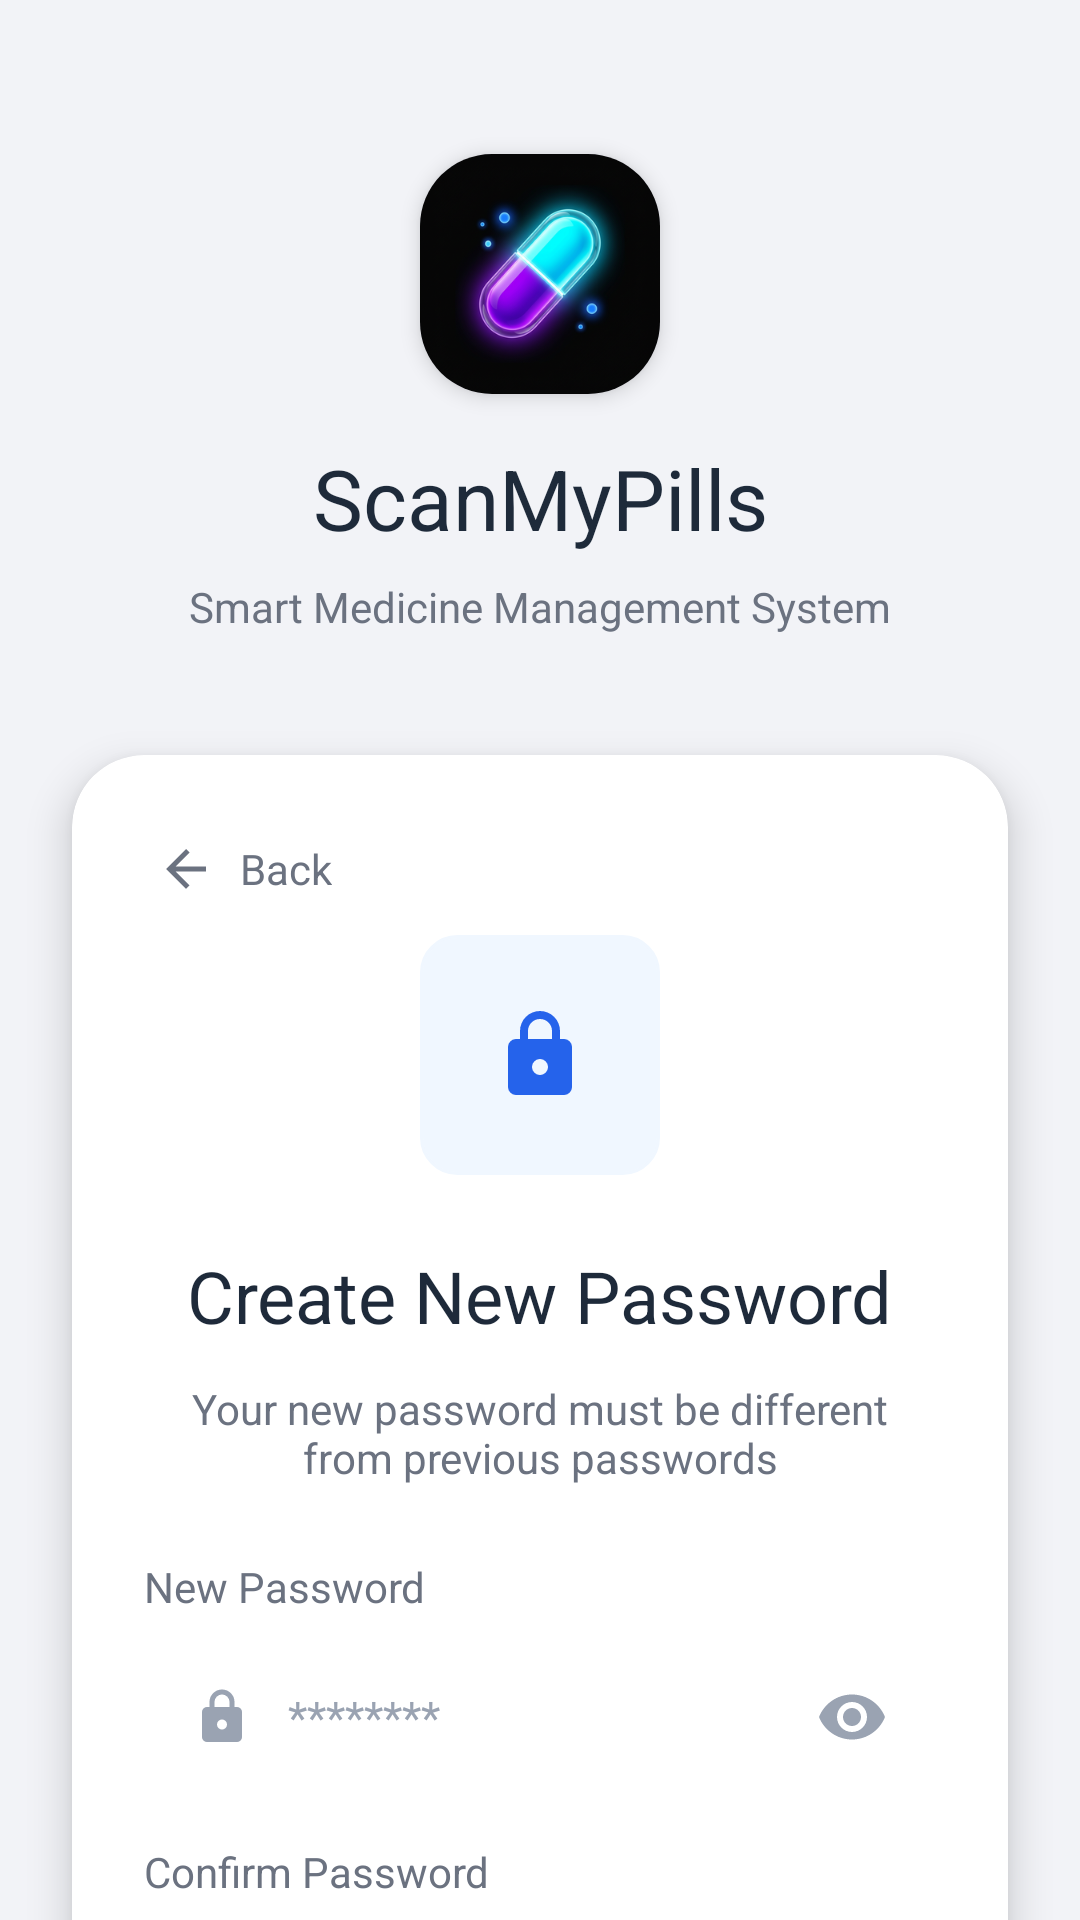

Screen size 1080w x 1920h. Icon name, then its center in pixels as (x,y):
eye: (852,1717)
lock: (540,1053), (222,1715)
